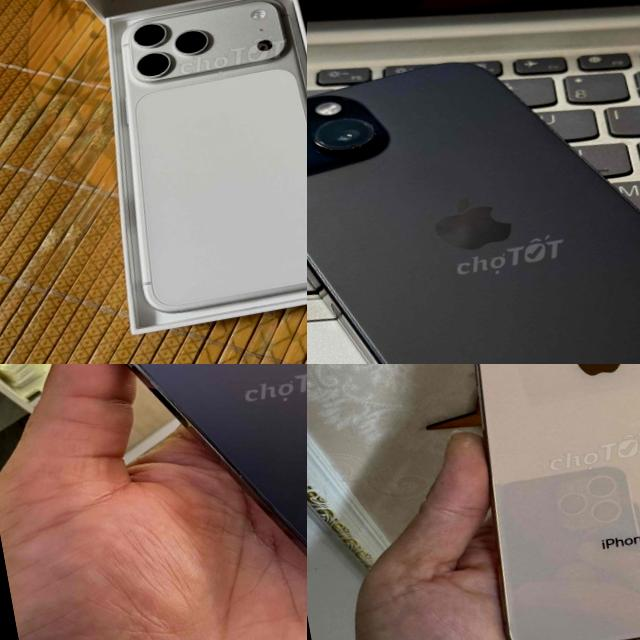gen_14: (0, 364, 307, 640)
gen_15: (307, 0, 640, 364)
gen_17: (100, 0, 307, 324)
gen_x_xs: (446, 364, 640, 640)
